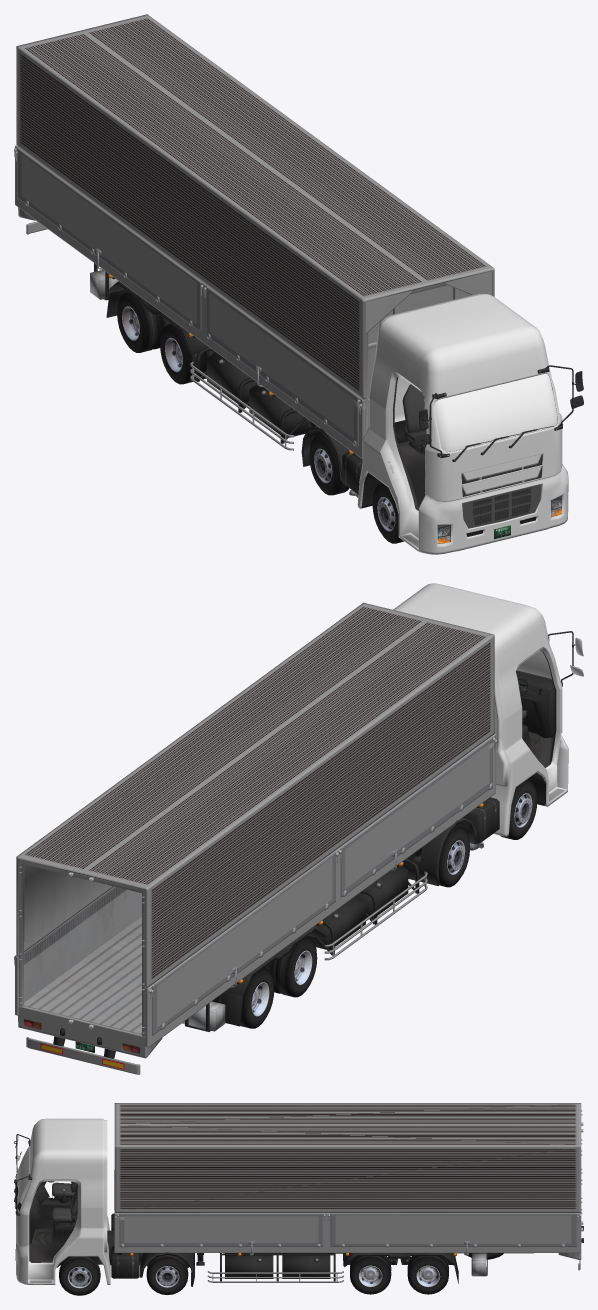
File: truck_body.fbx
3 views of the same model, one above another, from view 1: azimuth 30°, elevation 25°; view 2: azimuth 150°, elevation 25°; view 3: azimuth 270°, elevation 25° (orthographic). The views are drawn at different scales.
Parts seen in each view (by area): view 1: body; view 2: body; view 3: body.
Part boxes in pixels (x1,y1,x2,y2): body: (14,14,583,554); body: (14,583,583,1074); body: (14,1103,583,1295).
Size of the model in its own units: 278 by 348 by 1206.
Materials: 8 (6 with a texture image).
